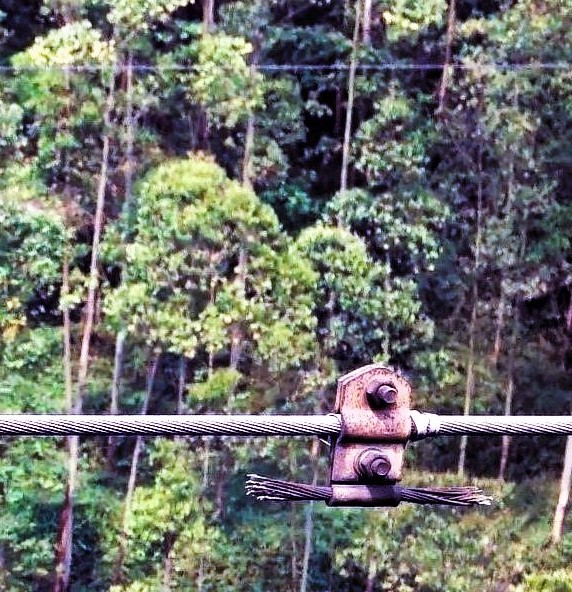Damage of shockproof hammer: (234, 349, 510, 521)
